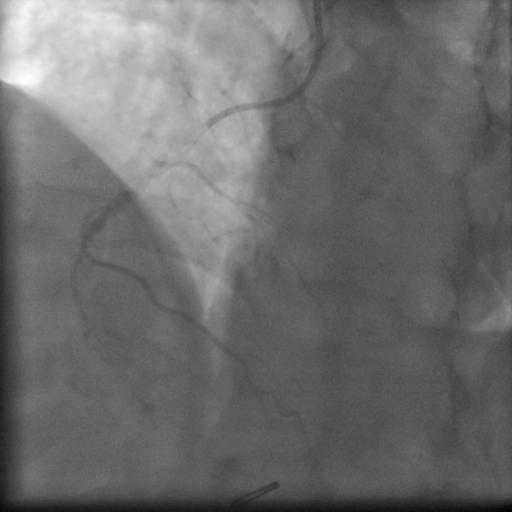Stenosis: (160, 124, 210, 157)
